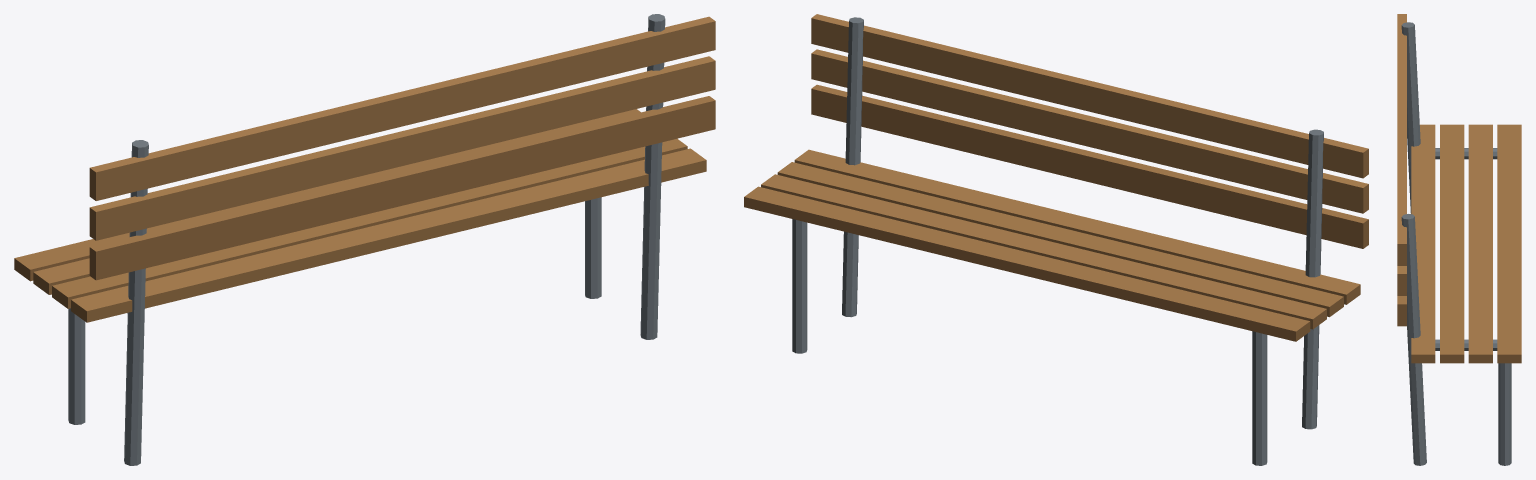
The model's file is Park_Bench.fbx.
The picture shows the model from 3 angles, left to right: view 1: azimuth 30°, elevation 25°; view 2: azimuth 150°, elevation 25°; view 3: azimuth 270°, elevation 25°; orthographic projection. The views are drawn at different scales.
Parts seen in each view (by area): view 1: Park_Bench; view 2: Park_Bench; view 3: Park_Bench.
Boxes of the visible parts, <box> form: Park_Bench: <box>14,14,715,465</box>; Park_Bench: <box>744,14,1368,465</box>; Park_Bench: <box>1397,14,1521,465</box>.
Size of the model in its own units: 18 by 9.02 by 4.11.
